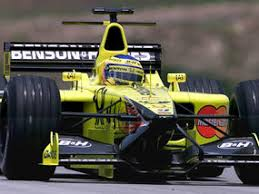FormulaOneCar: (1, 1, 259, 188)
